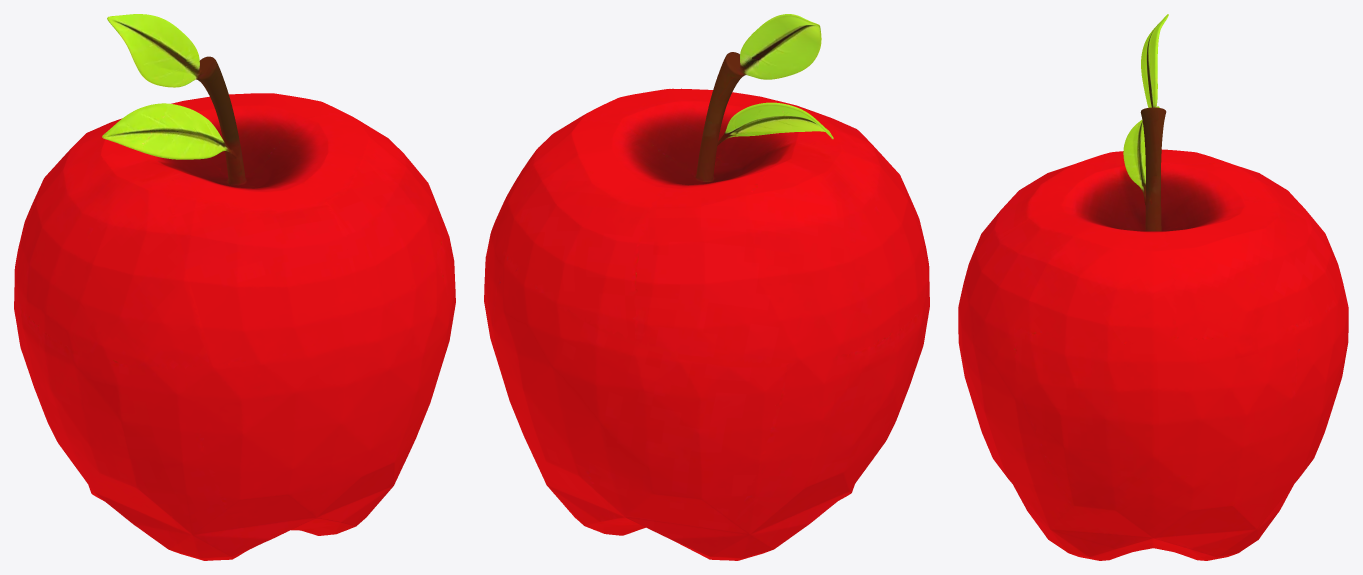
File: pomme-apple.glb
The picture shows the model from 3 angles, left to right: view 1: azimuth 30°, elevation 25°; view 2: azimuth 150°, elevation 25°; view 3: azimuth 270°, elevation 25°; orthographic projection. The views are drawn at different scales.
Bounding box in the file's own units: 1.44 × 1.9 × 1.44.
Materials: 1 (1 with a texture image).
